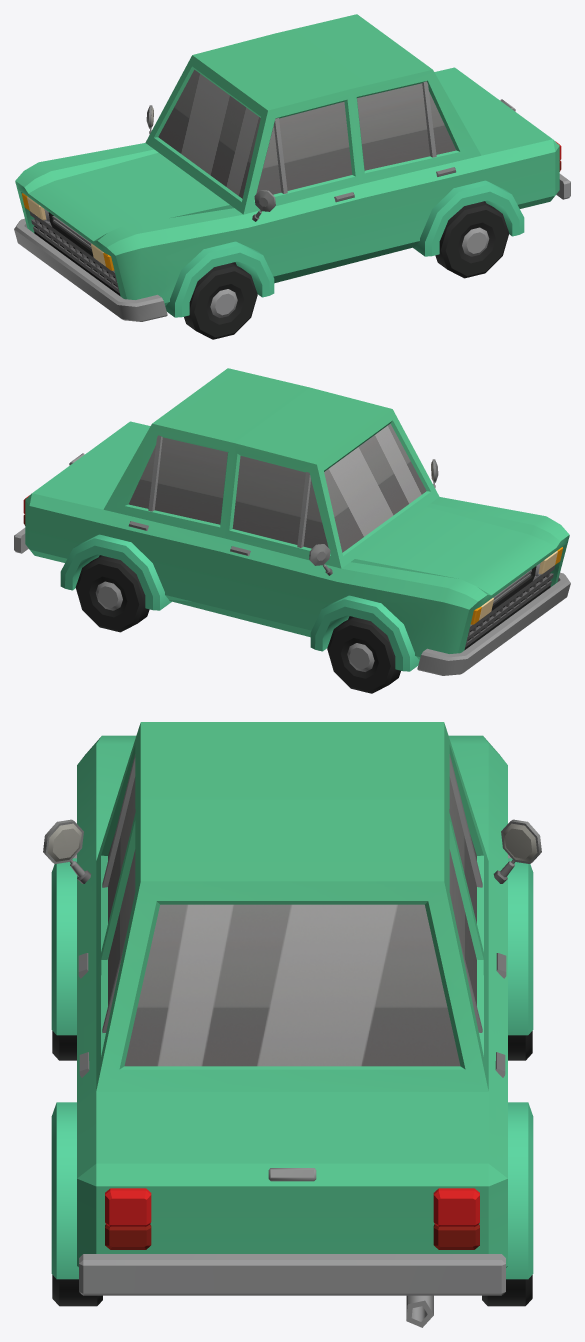
The model's file is Car_5_L.gltf.
3 renders of one model, top to bottom at view 1: azimuth 30°, elevation 25°; view 2: azimuth 150°, elevation 25°; view 3: azimuth 270°, elevation 25°, orthographic. The views are drawn at different scales.
Visible parts, largest first — view 1: Car_5_L, RR, FL; view 2: Car_5_L, RL, FR; view 3: Car_5_L, RR, RL.
Boxes of the visible parts, x1,y1,x2,y2 form: Car_5_L: (14, 14, 570, 321); RR: (435, 201, 509, 278); FL: (184, 263, 257, 339); Car_5_L: (14, 368, 570, 675); RL: (75, 555, 149, 632); FR: (327, 617, 400, 693); Car_5_L: (43, 722, 541, 1327); RR: (52, 1275, 102, 1306); RL: (482, 1275, 532, 1306).
Bounding box in the file's own units: 3.55 × 1.45 × 1.67.
Materials: 4 (4 with a texture image).
